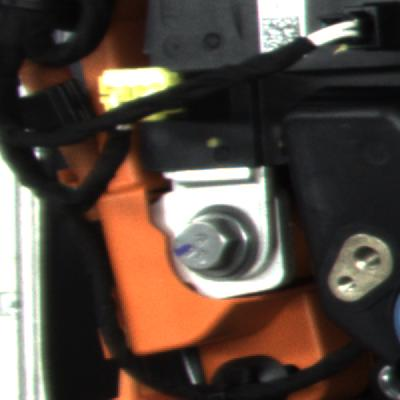nut_b: (162, 199, 278, 293)
